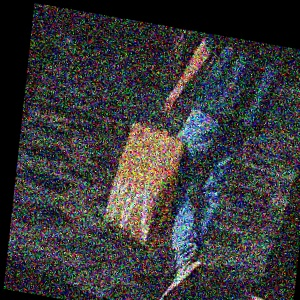zara: (124, 98, 219, 263)
